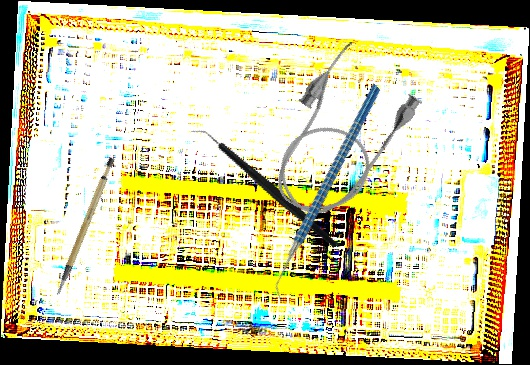Cannula: (249, 35, 429, 234)
Chopper: (216, 82, 441, 305), (189, 95, 340, 282)
Scalpel Handle: (34, 155, 133, 297)
